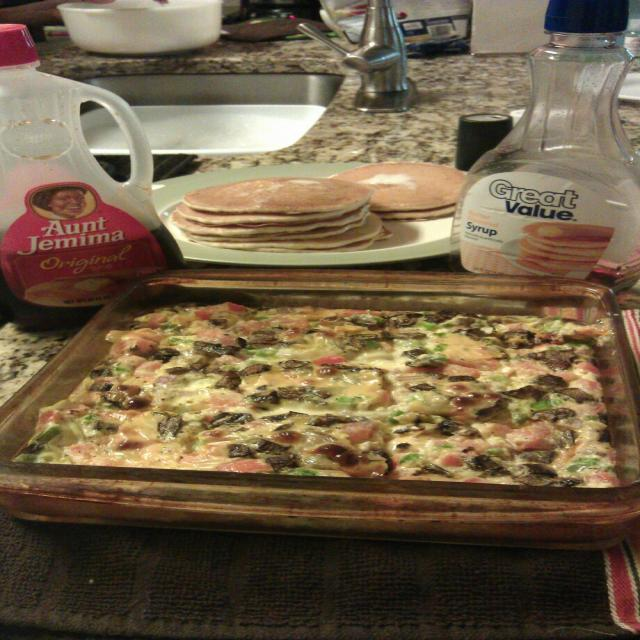Omelette: (3, 275, 640, 530)
Pancakes: (170, 155, 470, 252)
